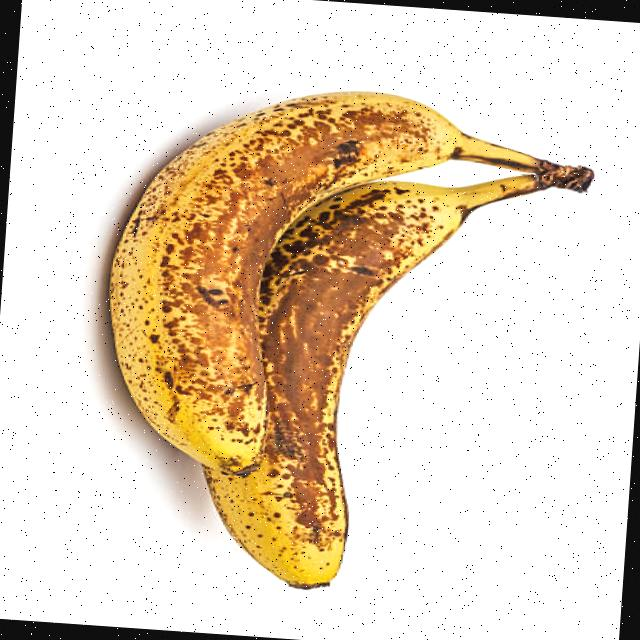overripe: (92, 69, 464, 492), (252, 162, 536, 608)
